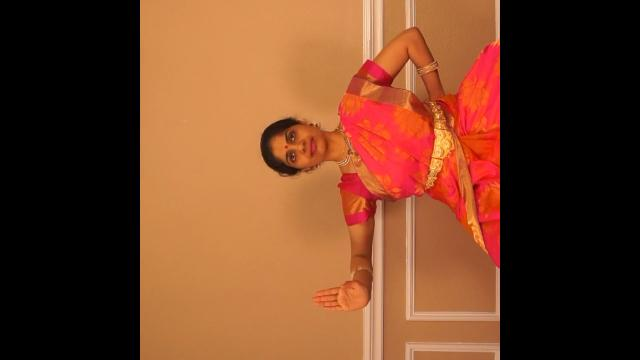pataka: (304, 265, 391, 327)
